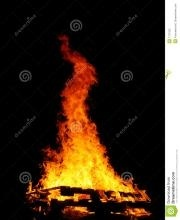fire: (19, 28, 147, 204)
